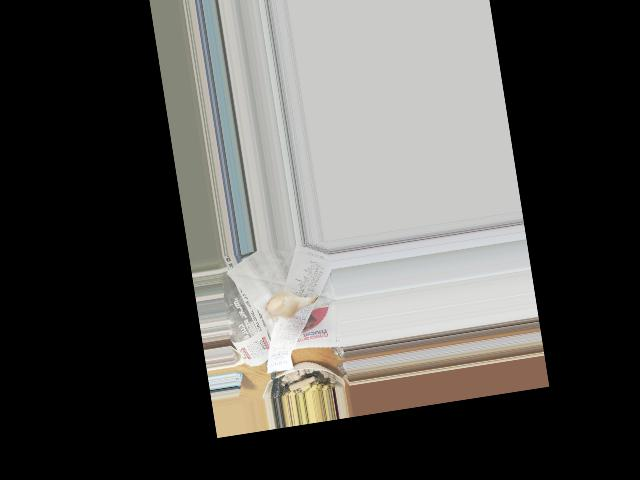onion: (266, 290, 304, 321)
